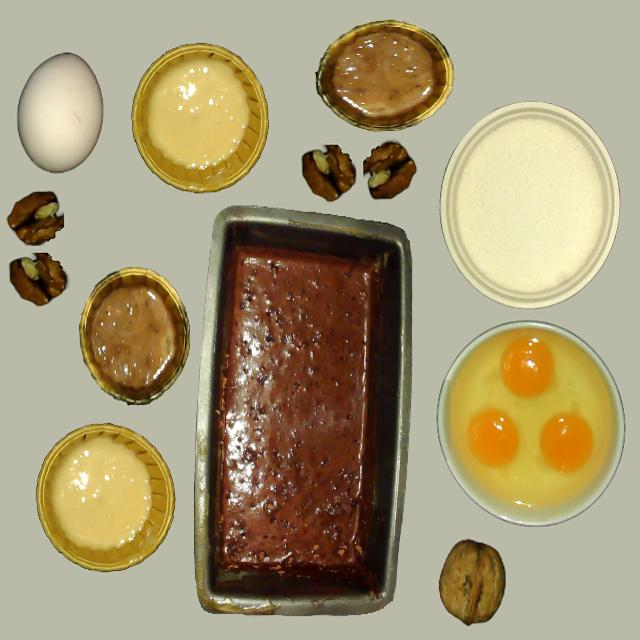Egg: (538, 412, 594, 474), (500, 335, 554, 397), (467, 409, 520, 469)
Sugar: (439, 103, 618, 306)
Walnut: (438, 541, 504, 625)
